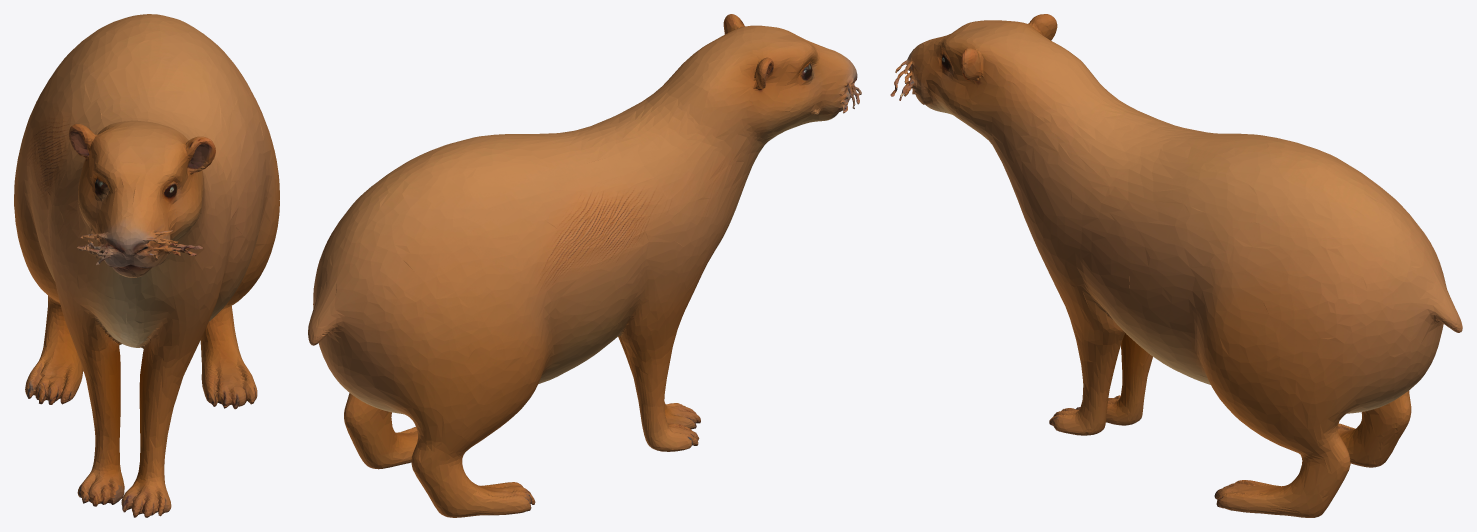
File: capybara.glb
3 views of the same model, side by side, from view 1: azimuth 30°, elevation 25°; view 2: azimuth 150°, elevation 25°; view 3: azimuth 270°, elevation 25° (orthographic). The views are drawn at different scales.
Visible parts, largest first — view 1: textured_mesh.obj; view 2: textured_mesh.obj; view 3: textured_mesh.obj.
Part boxes in pixels (x1,y1,x2,y2): textured_mesh.obj: (14, 14, 279, 517); textured_mesh.obj: (308, 14, 861, 517); textured_mesh.obj: (890, 14, 1462, 517).
Size of the model in its own units: 1.36 by 1.42 by 1.96.
Materials: 1 (1 with a texture image).
